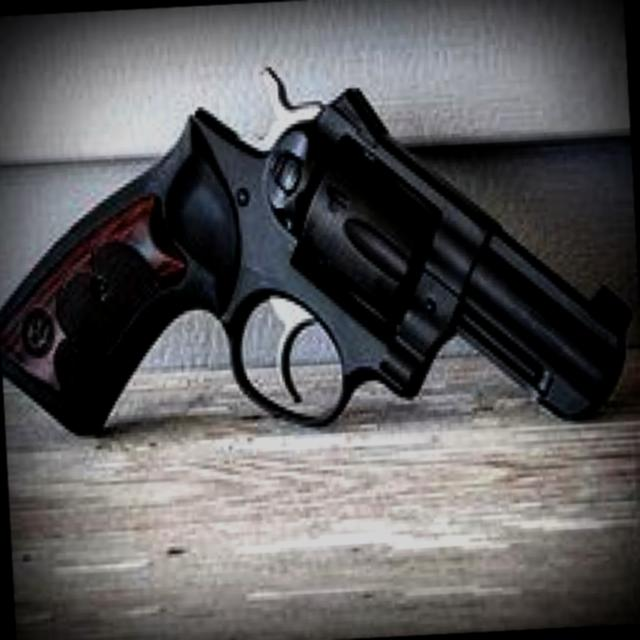revolver: (0, 49, 640, 487)
